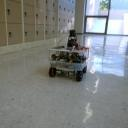cart: (48, 47, 90, 81)
